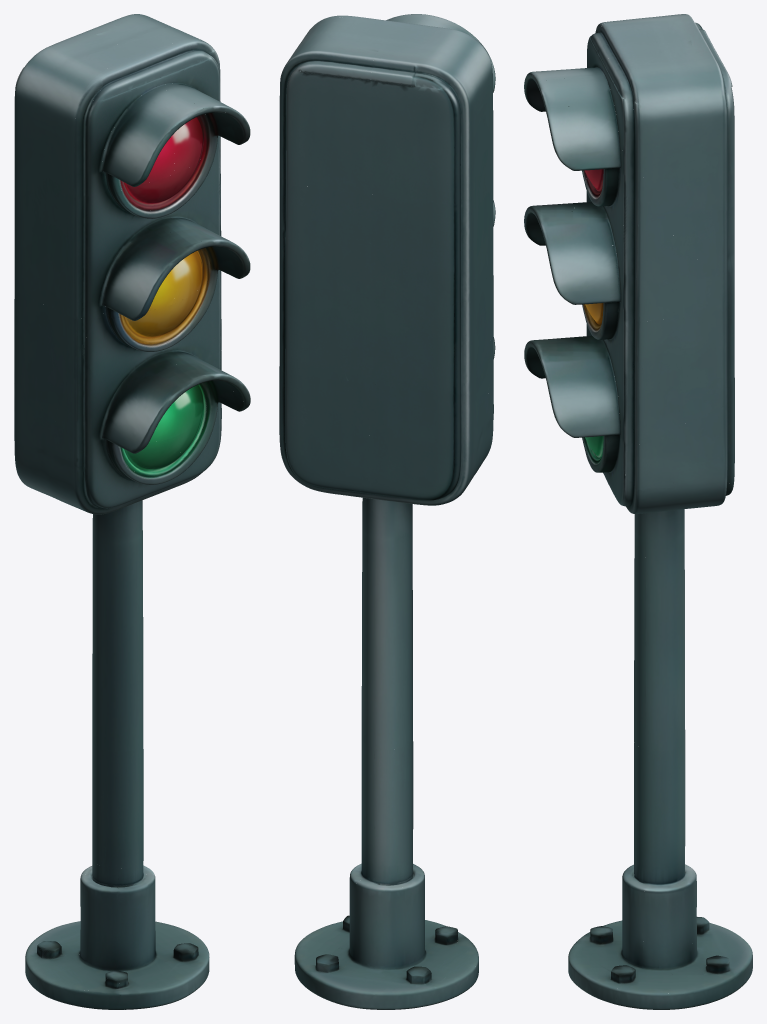
The model's file is obstacle_signal_light.glb.
3 views of the same model, side by side, from view 1: azimuth 30°, elevation 25°; view 2: azimuth 150°, elevation 25°; view 3: azimuth 270°, elevation 25° (orthographic).
Visible parts, largest first — view 1: tripo_node_70af8adf-0cc2-4e4a-a6b0-87cfe33f6841; view 2: tripo_node_70af8adf-0cc2-4e4a-a6b0-87cfe33f6841; view 3: tripo_node_70af8adf-0cc2-4e4a-a6b0-87cfe33f6841.
Part boxes in pixels (<box>): tripo_node_70af8adf-0cc2-4e4a-a6b0-87cfe33f6841: <box>14,14,250,1009</box>; tripo_node_70af8adf-0cc2-4e4a-a6b0-87cfe33f6841: <box>279,14,495,1009</box>; tripo_node_70af8adf-0cc2-4e4a-a6b0-87cfe33f6841: <box>524,14,752,1009</box>.
Bounding box in the file's own units: 0.205 × 0.9806 × 0.2191.
Materials: 1 (1 with a texture image).
